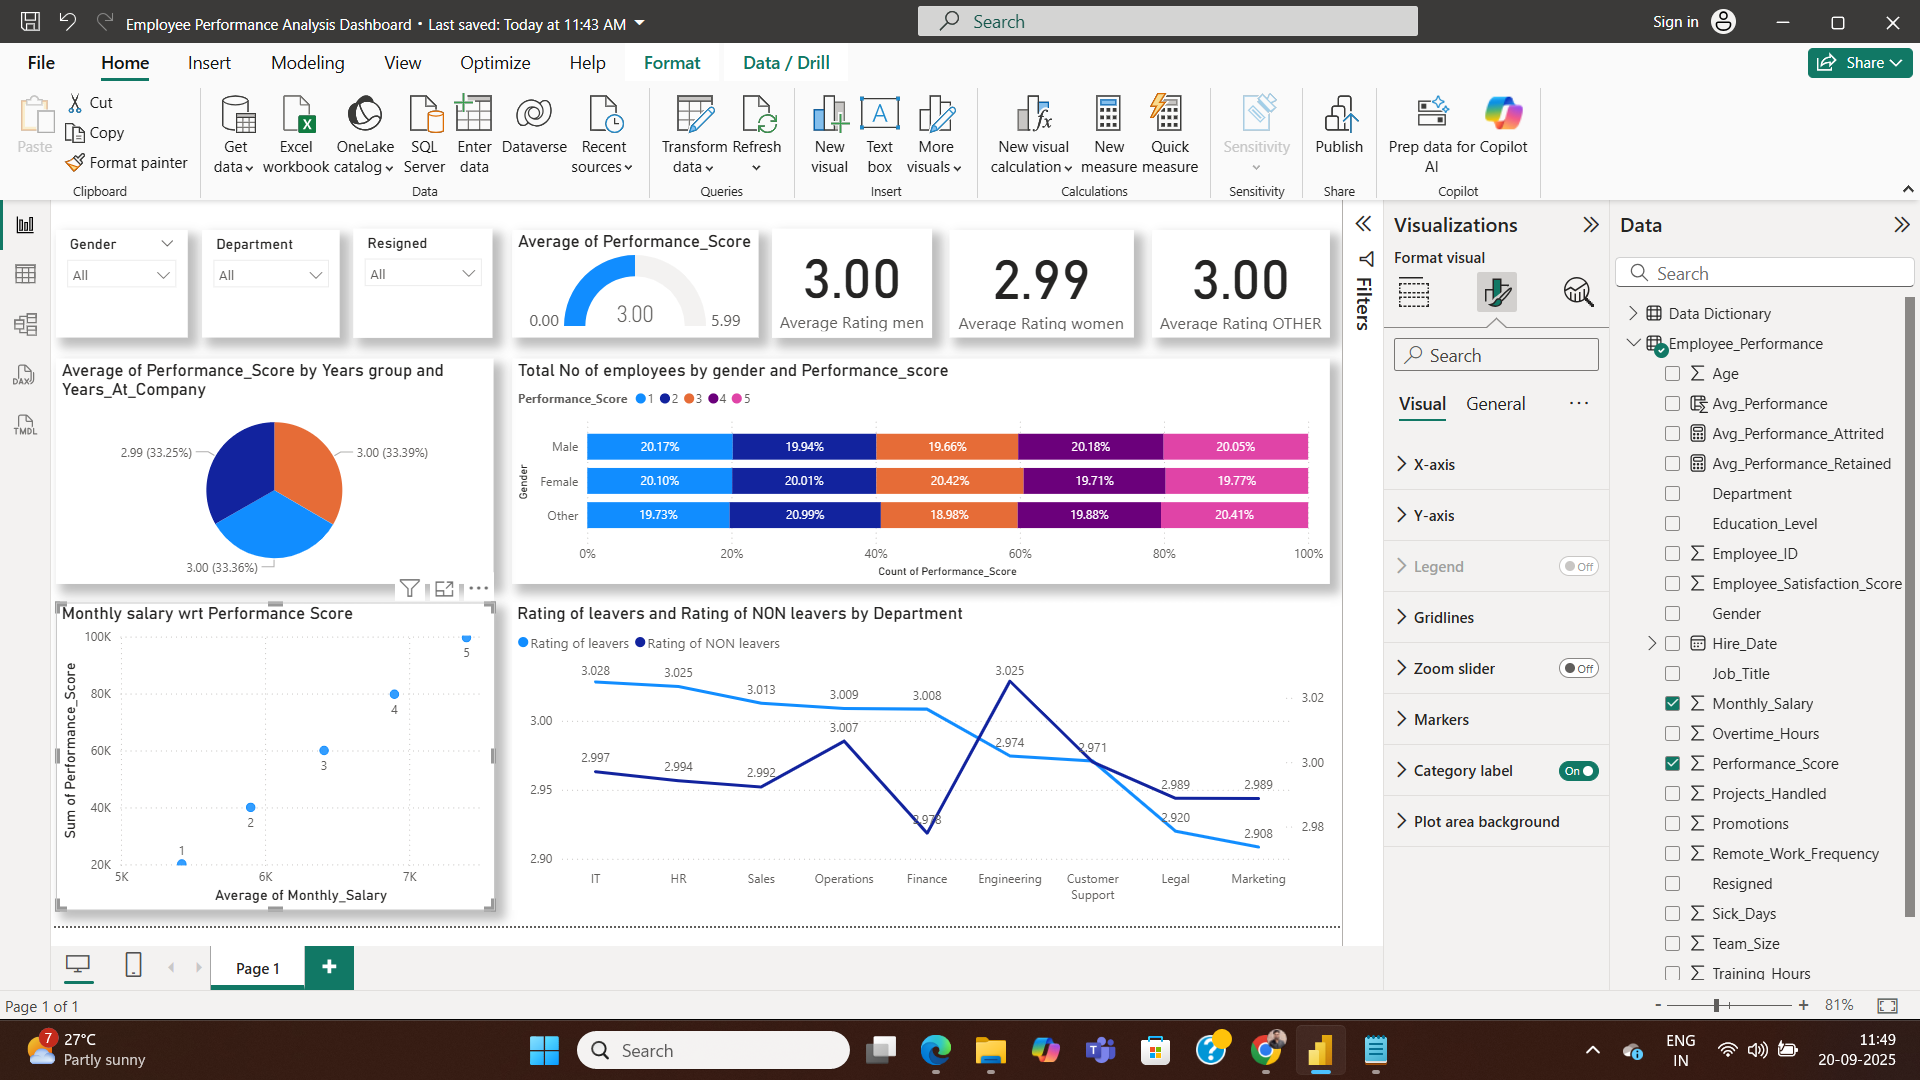

This screenshot's page, from the dashboard's own definition file:
{"tool":"powerbi","page":{"name":"Page 1","canvas":[1280,720],"ordinal":0},"visuals":[{"type":"gauge","fields":{"Y":["Avg(Employee_Performance.Performance_Score)"]},"box":[457.4,29.6,244.2,106.6],"z":0},{"type":"slicer","fields":{"Values":["Employee_Performance.Gender"]},"box":[5,29.7,130.1,106.6],"z":1},{"type":"slicer","fields":{"Values":["Employee_Performance.Department"]},"box":[149.5,29.6,136.2,106.6],"z":2},{"type":"slicer","fields":{"Values":["Employee_Performance.Resigned"]},"box":[300.5,28.1,137.7,108],"z":3},{"type":"card","fields":{"Values":["Avg(Employee_Performance.Performance_Score)"]},"box":[714.9,28.1,158.4,108],"z":4},{"type":"card","fields":{"Values":["Avg(Employee_Performance.Performance_Score)"]},"box":[891,29.6,182.1,106.6],"z":5},{"type":"card","fields":{"Values":["Avg(Employee_Performance.Performance_Score)"]},"box":[1092.3,29.6,176.1,106.6],"z":6},{"type":"hundredPercentStackedBarChart","title":"Total No of employees by gender and Performance_score","fields":{"Category":["Employee_Performance.Gender"],"Y":["CountNonNull(Employee_Performance.Performance_Score)"],"Series":["Employee_Performance.Performance_Score"]},"box":[457.3,157.4,810.5,223.1],"z":7},{"type":"pieChart","title":"Average of Performance_Score by Years group and Years_At_Company","fields":{"Y":["Avg(Employee_Performance.Performance_Score)"],"Category":["Employee_Performance.Gender"]},"box":[5,157.4,433.8,223.1],"z":8},{"type":"scatterChart","title":"Monthly salary wrt Performance Score","fields":{"Category":["Employee_Performance.Performance_Score"],"X":["Avg(Employee_Performance.Monthly_Salary)"],"Y":["Sum(Employee_Performance.Performance_Score)"]},"box":[5,399.1,435,304.9],"z":9},{"type":"lineChart","fields":{"Category":["Employee_Performance.Department"],"Y":["Employee_Performance.Avg_Performance_Attrited"],"Y2":["Employee_Performance.Avg_Performance_Retained"]},"box":[457,399,811,305],"z":10}]}

Visuals, with their boxes on the page's 1280x720 design canvas (x1, y1, x2, y2). These are canvas units, not pixel positions in the 1920x1080 screenshot, which may show the page scaled, cropped or inside an application window:
gauge - Avg(Employee_Performance.Performance_Score): 457, 30, 702, 136
slicer - Employee_Performance.Gender: 5, 30, 135, 136
slicer - Employee_Performance.Department: 150, 30, 286, 136
slicer - Employee_Performance.Resigned: 300, 28, 438, 136
card - Avg(Employee_Performance.Performance_Score): 715, 28, 873, 136
card - Avg(Employee_Performance.Performance_Score): 891, 30, 1073, 136
card - Avg(Employee_Performance.Performance_Score): 1092, 30, 1268, 136
"Total No of employees by gender and Performance_score" hundredPercentStackedBarChart: 457, 157, 1268, 380
"Average of Performance_Score by Years group and Years_At_Company" pieChart: 5, 157, 439, 380
"Monthly salary wrt Performance Score" scatterChart: 5, 399, 440, 704
lineChart - Employee_Performance.Department x Employee_Performance.Avg_Performance_Attrited: 457, 399, 1268, 704
